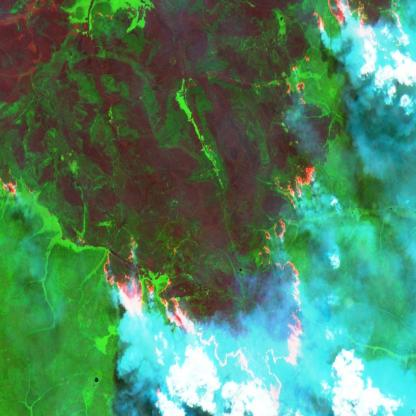fire: (89, 156, 327, 416), (279, 0, 416, 115)
